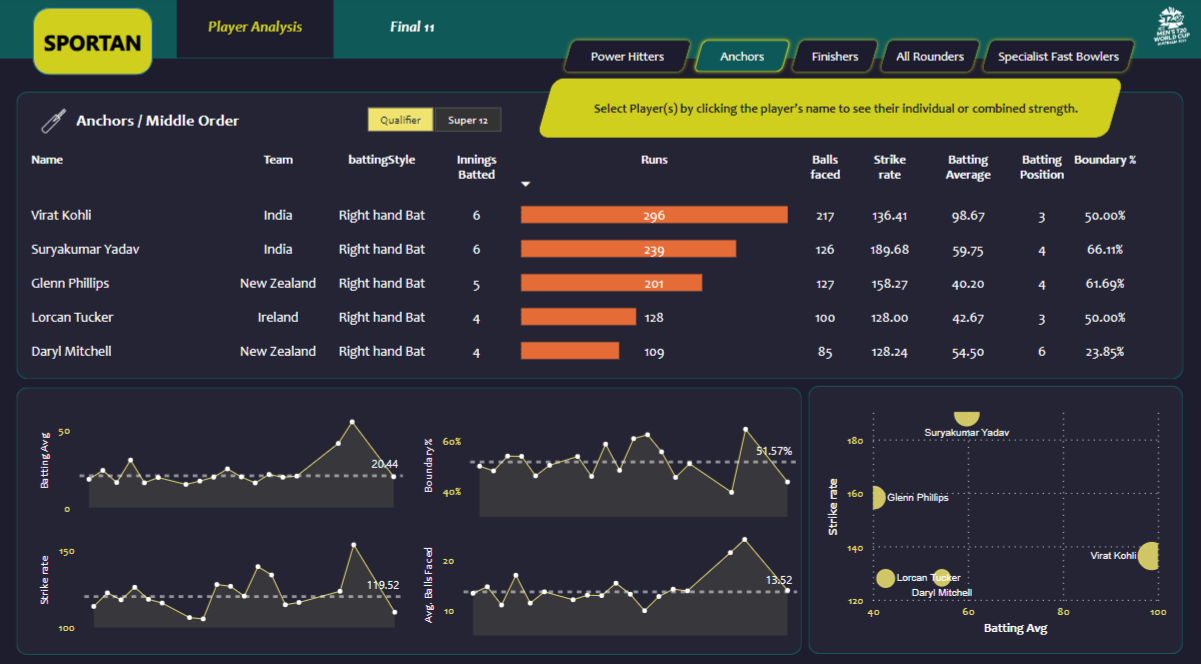

The dashboard page shown, as its layout file describes it:
{"tool":"powerbi","page":{"name":"New Finisher / Lower Order Anchor","canvas":[1280,720],"ordinal":2},"visuals":[{"type":"shape","box":[0,66,1280,654],"z":0},{"type":"card","fields":{"Values":["Key_Measures.Strike rate"]},"box":[867,89,93,60],"z":0,"group":"g2"},{"type":"shape","box":[83.7,116.2,260,31.2],"z":0,"group":"g1"},{"type":"card","fields":{"Values":["Key_Measures.Bat Avg"]},"box":[768,89,92,60],"z":1000,"group":"g2"},{"type":"image","box":[37.5,113.8,44,36],"z":1000,"group":"g1"},{"type":"shape","box":[20,414,832,284],"z":1000},{"type":"actionButton","box":[734,42.6,111,42],"z":2000},{"type":"card","fields":{"Values":["Key_Measures.Bowling Strike Rate"]},"box":[1073,89,100,60],"z":2000,"group":"g2"},{"type":"actionButton","box":[596,42.6,144,42],"z":3000},{"type":"card","fields":{"Values":["Key_Measures.Avergate Balls Faced"]},"box":[966,89,101,60],"z":3000,"group":"g2"},{"type":"actionButton","box":[838,42.6,101,42],"z":4000},{"type":"actionButton","box":[932,42.6,115,42],"z":5000},{"type":"actionButton","box":[1039,42.6,171,42],"z":6000},{"type":"image","box":[1220,3,48,59],"z":7000},{"type":"areaChart","fields":{"Category":["dim_match_summary.Match_Date.Variation.Date Hierarchy.Day"],"Y":["Key_Measures.Avergate Balls Faced"]},"box":[446,430,406,126],"z":9000},{"type":"areaChart","fields":{"Category":["dim_match_summary.Match_Date.Variation.Date Hierarchy.Day"],"Y":["Key_Measures.Bowling Strike Rate"]},"box":[446,556,406,126],"z":11000},{"type":"areaChart","fields":{"Category":["dim_match_summary.Match_Date.Variation.Date Hierarchy.Day"],"Y":["Key_Measures.Bat Avg"]},"box":[40,428.9,395.6,126.7],"z":12000},{"type":"areaChart","fields":{"Category":["dim_match_summary.Match_Date.Variation.Date Hierarchy.Day"],"Y":["Key_Measures.Strike rate"]},"box":[40,555.6,396.7,125.6],"z":13000},{"type":"shape","box":[19.6,101.9,1231,304.8],"z":14000},{"type":"group","id":"g1","title":"Group 2","box":[37.5,113.8,306.2,36],"z":15000},{"type":"slicer","fields":{"Values":["dim_match_summary.stage"]},"box":[366.7,111.1,191.1,38.9],"z":16000},{"type":"tableEx","fields":{"Values":["dim_player.name","Min(dim_player.team)","Min(dim_player.Batting Style)","Min(dim_player.Bowling Style)","Key_Measures.Total Innings Batted","Key_Measures.Total Runs","Key_Measures.Avergate Balls Faced","Key_Measures.Bat Avg","Key_Measures.Strike rate","Key_Measures.Total Innings Bowled","Key_Measures.wickets","Key_Measures.Economy"]},"box":[26.5,150.9,1224.1,254.8],"z":17000},{"type":"shape","box":[572,88,622,63],"z":18000},{"type":"shape","box":[591,103,173,34],"z":19000},{"type":"group","id":"g2","title":"Combined Perfoamce Metrices","box":[768,89,405,60],"z":20000},{"type":"actionButton","title":"Button Player Ana selected","box":[191,0,166,66],"z":22000},{"type":"actionButton","title":"Button Player Ana selected","box":[357,0,166,66],"z":23000},{"type":"shape","box":[608.6,102.9,560.6,36.3],"z":23501},{"type":"shape","box":[863.7,414.3,380,284.8],"z":24001},{"type":"scatterChart","fields":{"Y":["Key_Measures.Strike rate"],"Category":["dim_player.name"],"X":["Key_Measures.Bat Avg"],"Size":["Key_Measures.Strike rate"]},"box":[877.1,447.3,340.9,235.5],"z":24501},{"type":"shape","box":[38.1,12.7,127.2,71.5],"z":24502}]}

Visuals, with their boxes in screenshot pixels (x1, y1, x2, y2), scaled from the page's 1280x720 canvas onto the 1201x664 screenshot:
shape: locate(0, 61, 1200, 663)
card - Key_Measures.Strike rate: locate(813, 82, 901, 137)
shape: locate(79, 107, 322, 136)
card - Key_Measures.Bat Avg: locate(721, 82, 807, 137)
image: locate(35, 105, 76, 138)
shape: locate(19, 382, 799, 644)
actionButton: locate(689, 39, 793, 78)
card - Key_Measures.Bowling Strike Rate: locate(1007, 82, 1101, 137)
actionButton: locate(559, 39, 694, 78)
card - Key_Measures.Avergate Balls Faced: locate(906, 82, 1001, 137)
actionButton: locate(786, 39, 881, 78)
actionButton: locate(874, 39, 982, 78)
actionButton: locate(975, 39, 1135, 78)
image: locate(1145, 3, 1190, 57)
areaChart - dim_match_summary.Match_Date.Variation.Date Hierarchy.Day x Key_Measures.Avergate Balls Faced: locate(418, 397, 799, 513)
areaChart - dim_match_summary.Match_Date.Variation.Date Hierarchy.Day x Key_Measures.Bowling Strike Rate: locate(418, 513, 799, 629)
areaChart - dim_match_summary.Match_Date.Variation.Date Hierarchy.Day x Key_Measures.Bat Avg: locate(38, 396, 409, 512)
areaChart - dim_match_summary.Match_Date.Variation.Date Hierarchy.Day x Key_Measures.Strike rate: locate(38, 512, 410, 628)
shape: locate(18, 94, 1173, 375)
"Group 2" group: locate(35, 105, 322, 138)
slicer - dim_match_summary.stage: locate(344, 102, 523, 138)
tableEx - dim_player.name x Min(dim_player.team): locate(25, 139, 1173, 374)
shape: locate(537, 81, 1120, 139)
shape: locate(555, 95, 717, 126)
"Combined Perfoamce Metrices" group: locate(721, 82, 1101, 137)
"Button Player Ana selected" actionButton: locate(179, 0, 335, 61)
"Button Player Ana selected" actionButton: locate(335, 0, 491, 61)
shape: locate(571, 95, 1097, 128)
shape: locate(810, 382, 1167, 645)
scatterChart - Key_Measures.Strike rate x dim_player.name: locate(823, 413, 1143, 630)
shape: locate(36, 12, 155, 78)
